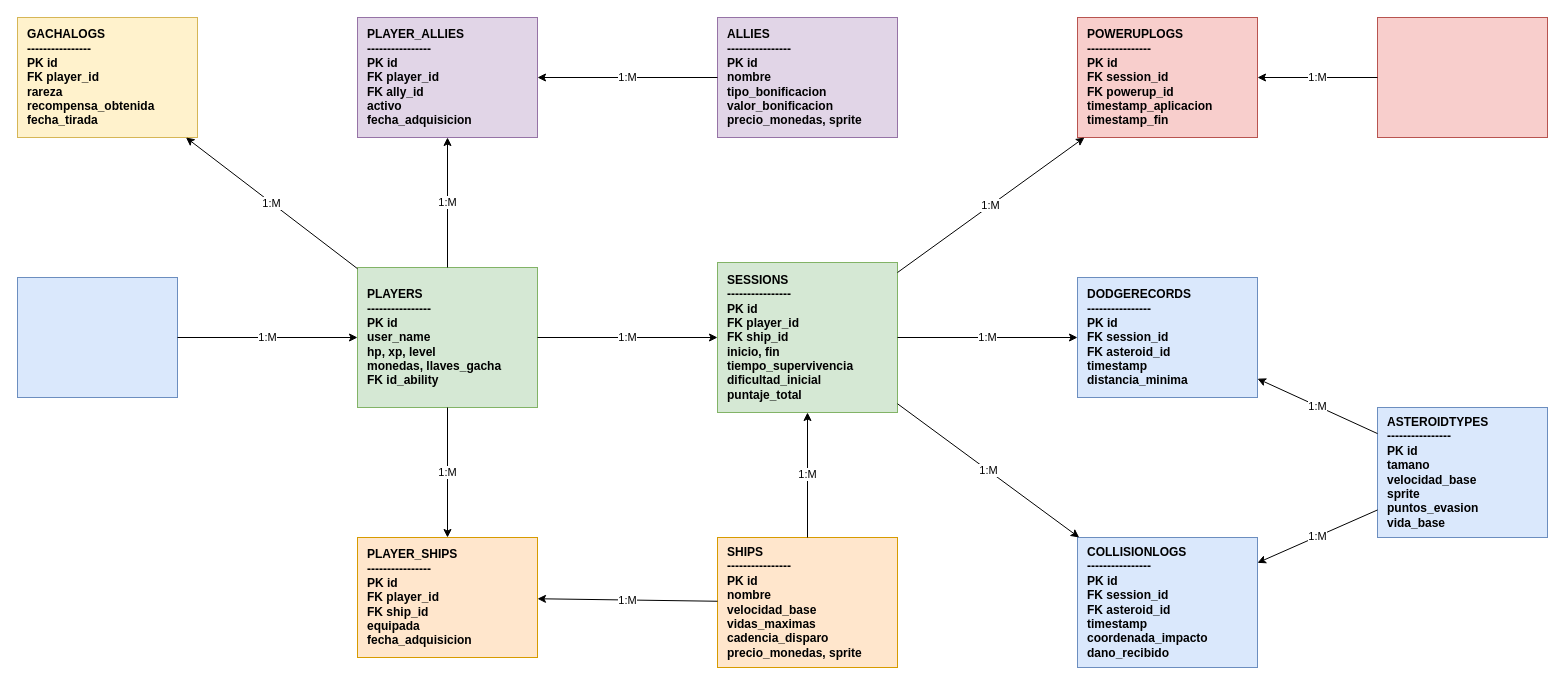
The diagram is 1565 pixels wide and 685 high, and some of its shapes have lost their labels. The centre of each missing label's shape, as x and y in pixels:
"ABILITIES ---------------- PK id name cooldown damage consume" goes at point (97, 337).
"POWERUPS ---------------- PK id nombre efecto duracion_base probabilidad_spawn" goes at point (1462, 77).
